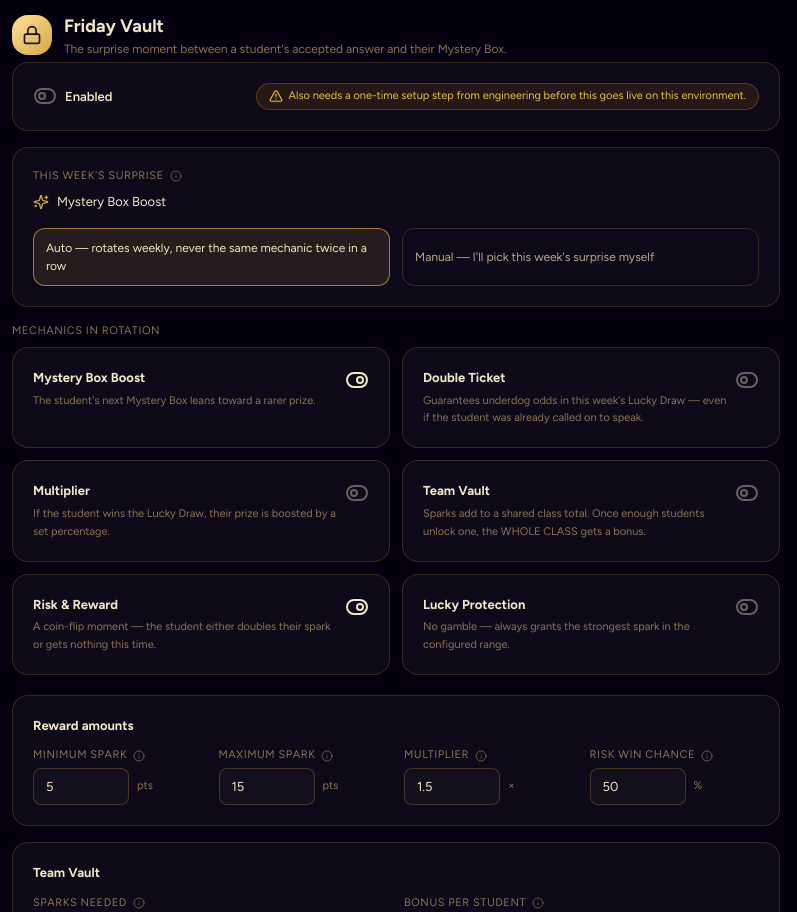
Test: switching to Manual rotation reveals a mechanic picker
This screenshot has width=797, height=912.
Click the button with test id "vault-rotation-manual". click: [580, 256]
box: [402, 228, 759, 286]
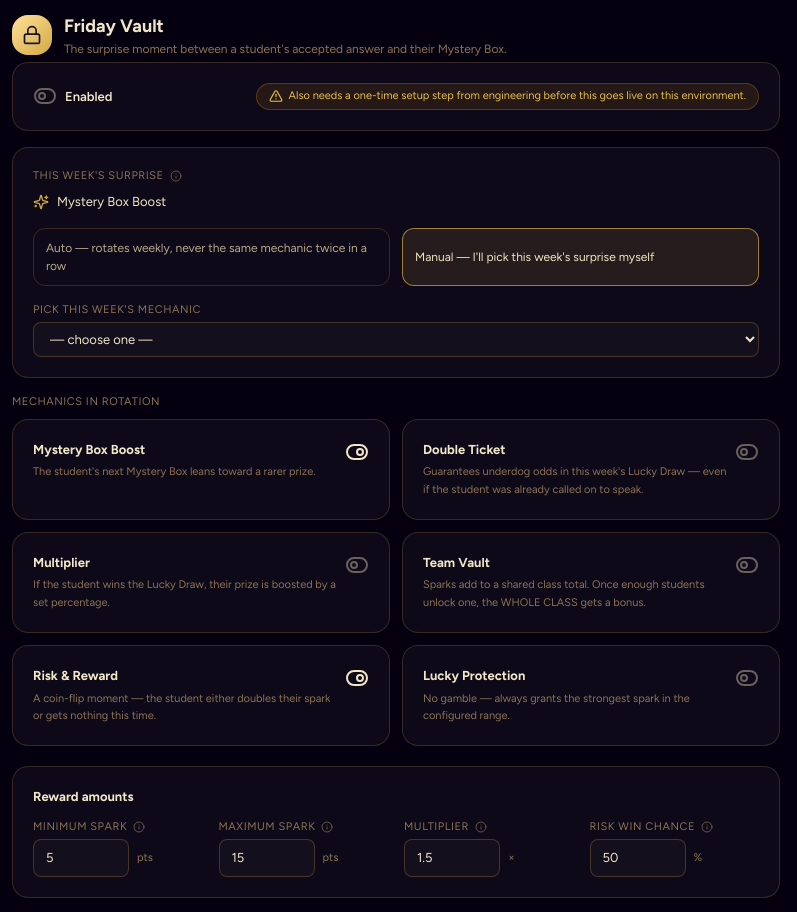
Result: the dropdown with test id "vault-manual-rule-select" is shown at [33, 322, 759, 357]
